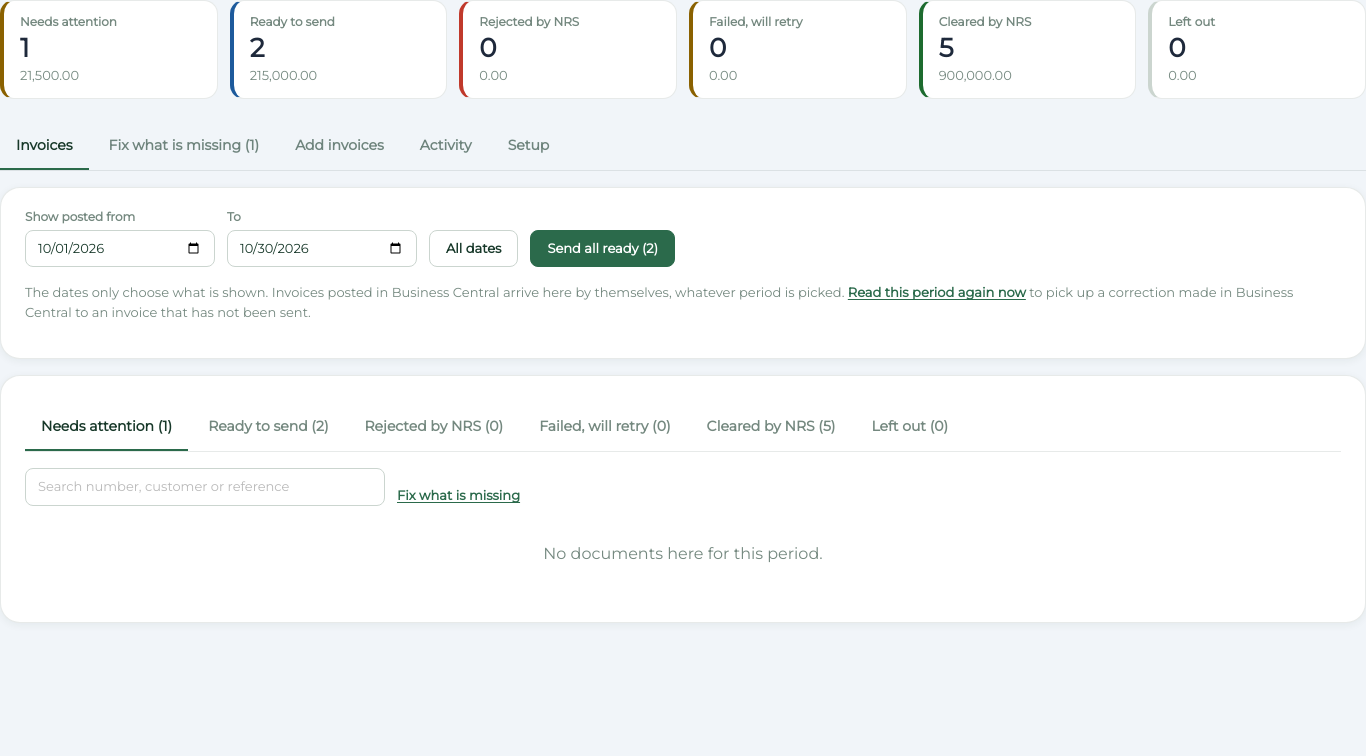
Test case: a key for another system is shown once when it is made
Click the button "Setup". click: (529, 146)
box: [492,123,565,170]
(page scrolled)
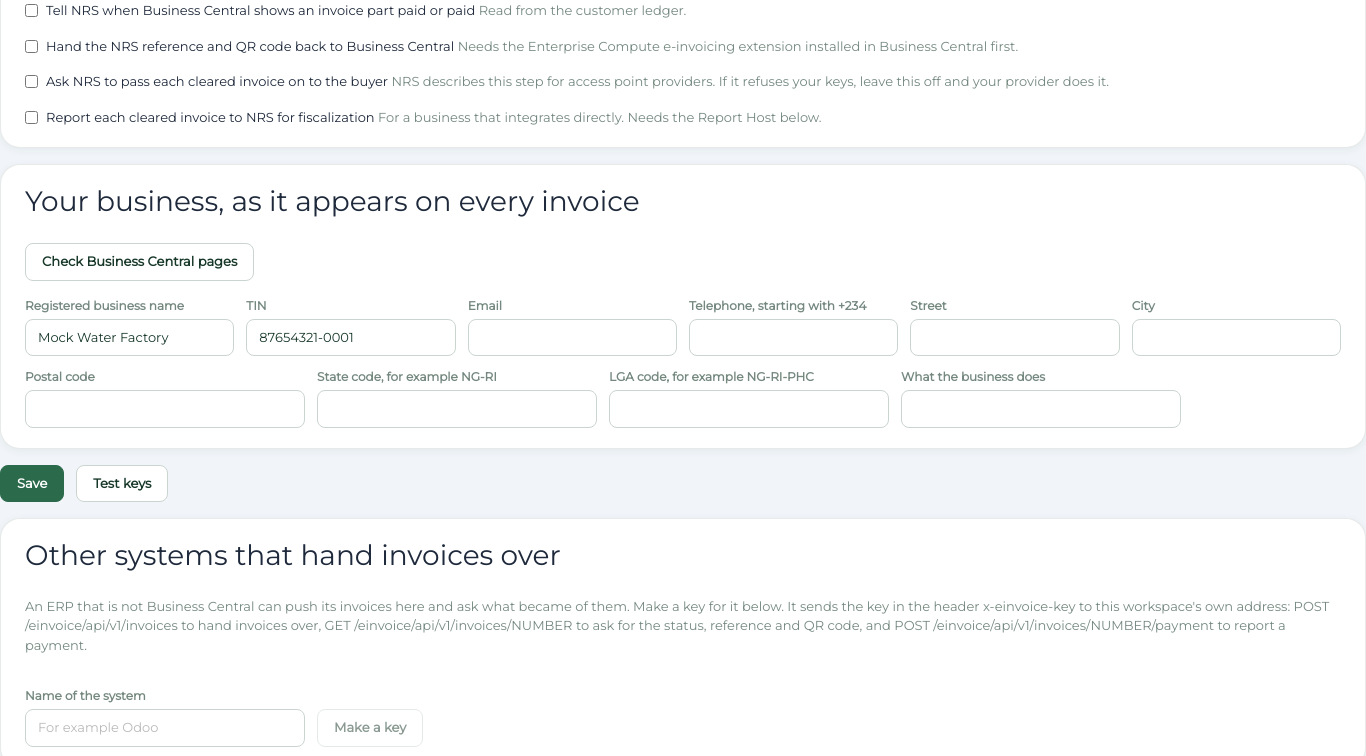
Type "Odoo" into the field with placeholder "For example Odoo". click: (165, 728)
box: [25,709,305,747]
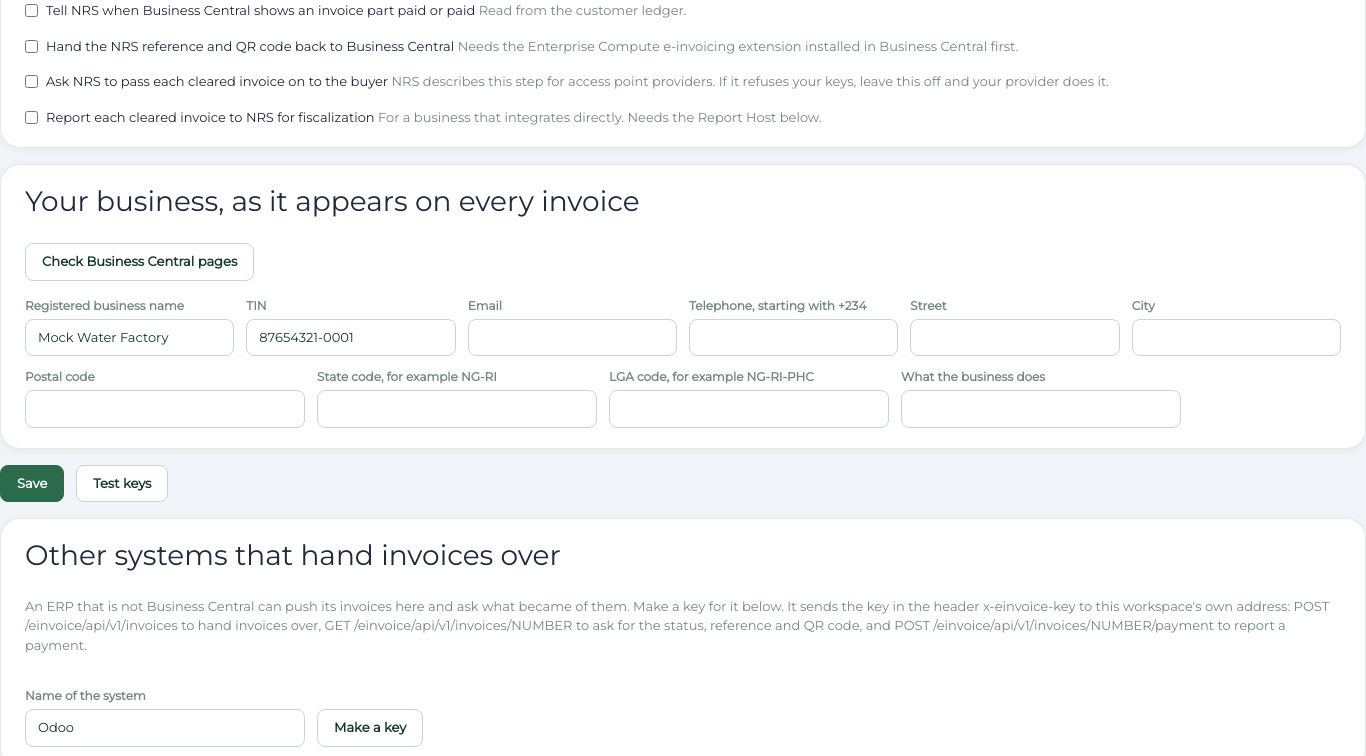
Click the button "Make a key". click: (370, 728)
box: [317,709,423,747]
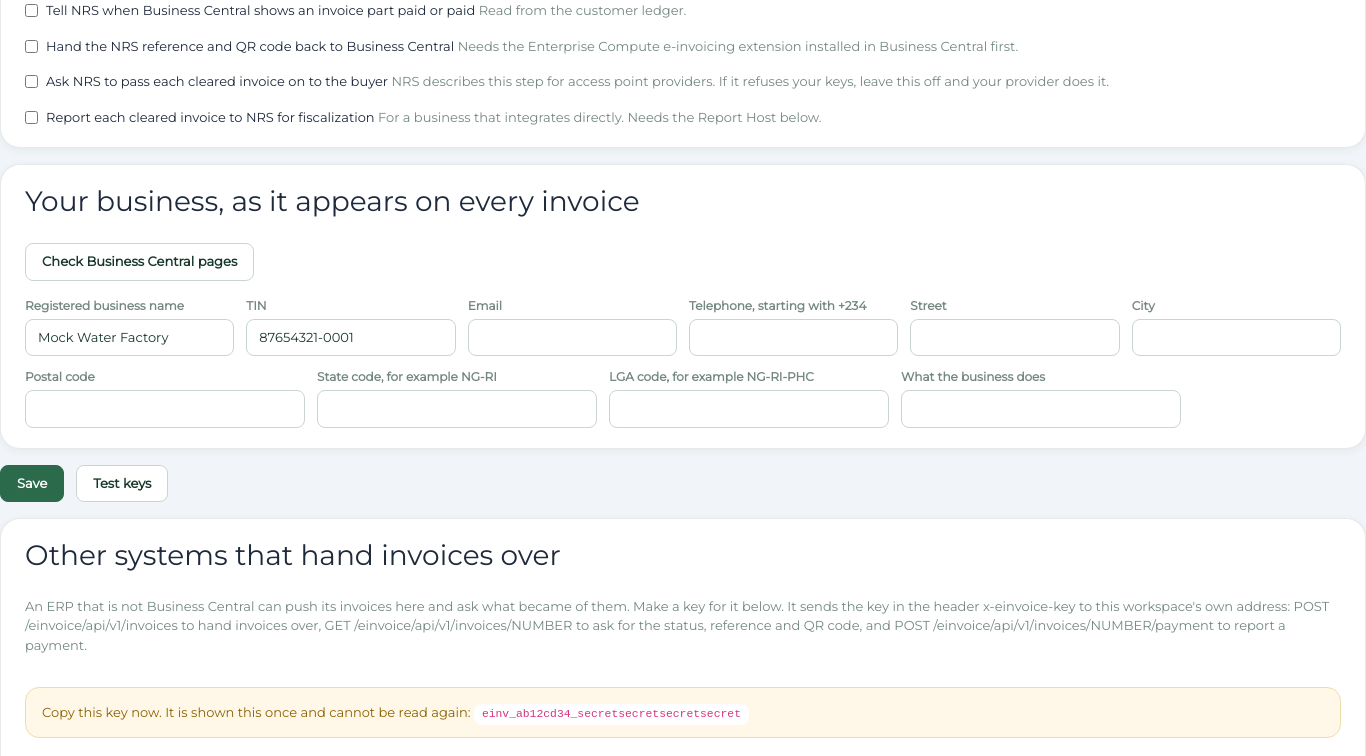
Expected: the text "einv_ab12cd34_secretsecretsecretsecret" is shown, [474,704,749,725]
